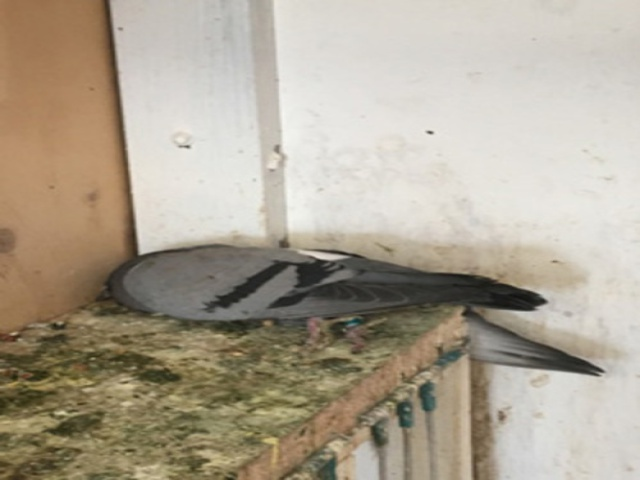Pigeon: (111, 241, 542, 341)
